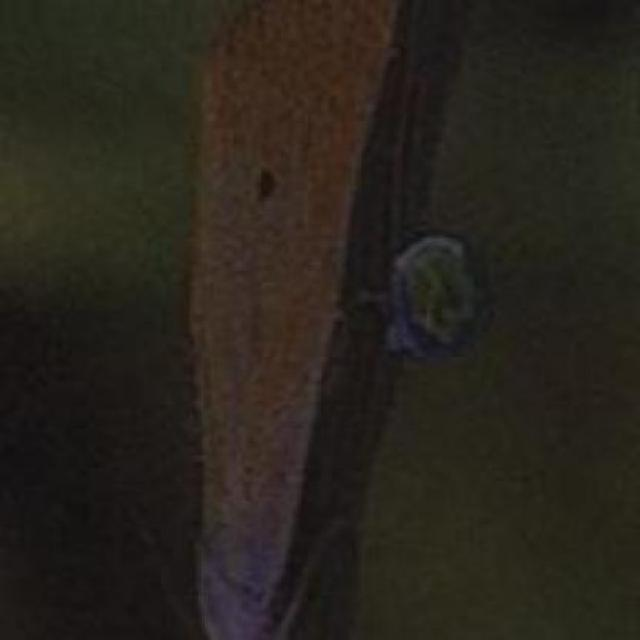stem-borer: (174, 0, 421, 636)
